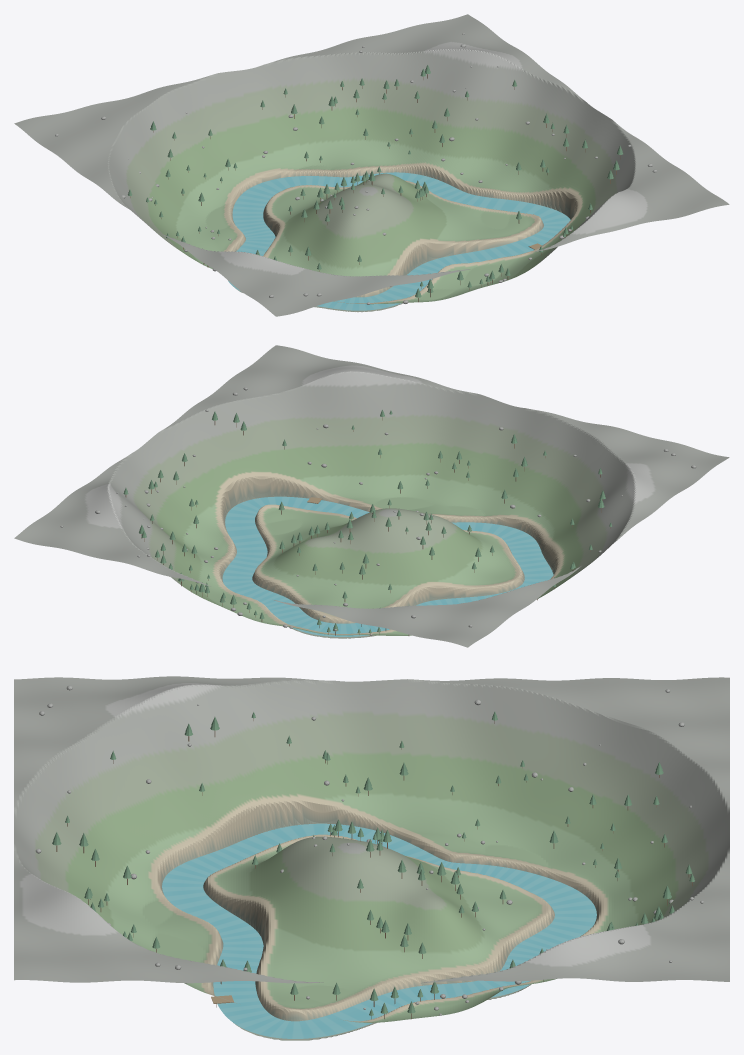
Rendered from thung-lung-song-uon-khuc-v71.glb.
3 renders of one model, top to bottom at view 1: azimuth 30°, elevation 25°; view 2: azimuth 150°, elevation 25°; view 3: azimuth 270°, elevation 25°, orthographic. The views are drawn at different scales.
Parts seen in each view (by area): view 1: 01_MOUNTAINS_RIVERBED, 02_VISIBLE_RIVER_WATER, 05_FOREST_PINES, 06_ROCKS; view 2: 01_MOUNTAINS_RIVERBED, 02_VISIBLE_RIVER_WATER, 05_FOREST_PINES, 06_ROCKS; view 3: 01_MOUNTAINS_RIVERBED, 02_VISIBLE_RIVER_WATER, 05_FOREST_PINES, 06_ROCKS.
Part boxes in pixels (x1=…): 01_MOUNTAINS_RIVERBED: x1=14, y1=14, x2=729, y2=316; 02_VISIBLE_RIVER_WATER: x1=228, y1=172, x2=570, y2=310; 05_FOREST_PINES: x1=128, y1=65, x2=623, y2=297; 06_ROCKS: x1=55, y1=33, x2=656, y2=304; 01_MOUNTAINS_RIVERBED: x1=14, y1=345, x2=729, y2=647; 02_VISIBLE_RIVER_WATER: x1=222, y1=496, x2=553, y2=636; 05_FOREST_PINES: x1=123, y1=409, x2=612, y2=633; 06_ROCKS: x1=60, y1=387, x2=696, y2=635; 01_MOUNTAINS_RIVERBED: x1=14, y1=676, x2=729, y2=1040; 02_VISIBLE_RIVER_WATER: x1=162, y1=823, x2=596, y2=1038; 05_FOREST_PINES: x1=52, y1=711, x2=694, y2=1015; 06_ROCKS: x1=36, y1=685, x2=703, y2=1015.
Bounding box in the file's own units: 396 × 73.8 × 396.
